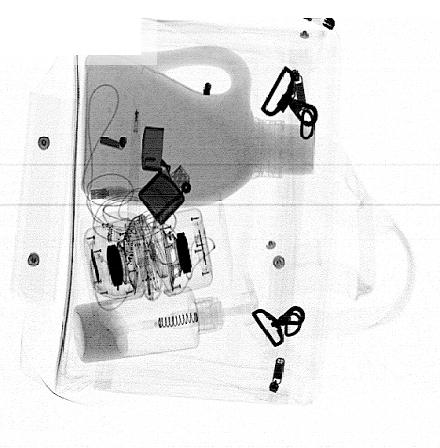Lighter: (137, 126, 193, 226)
